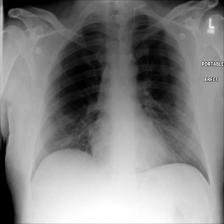normal: (30, 8, 211, 185)
